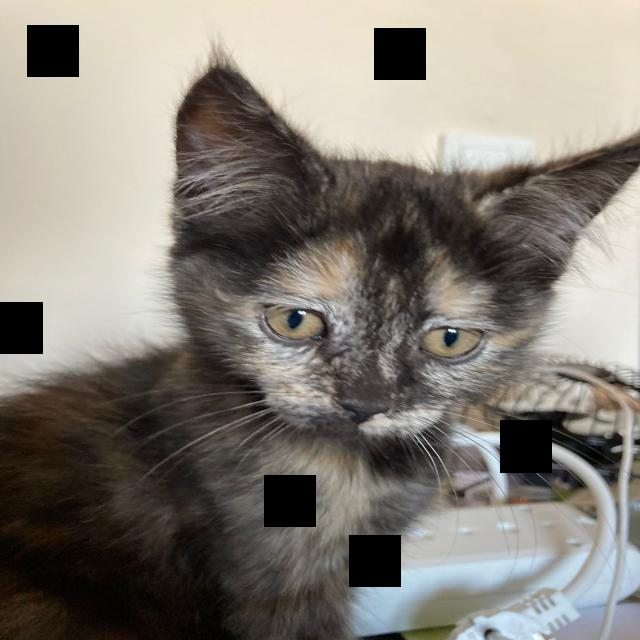authorized: (0, 34, 639, 639)
